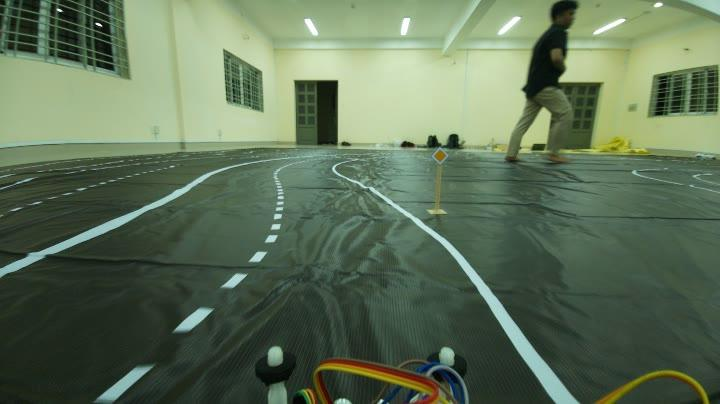priority: (428, 146, 453, 168)
